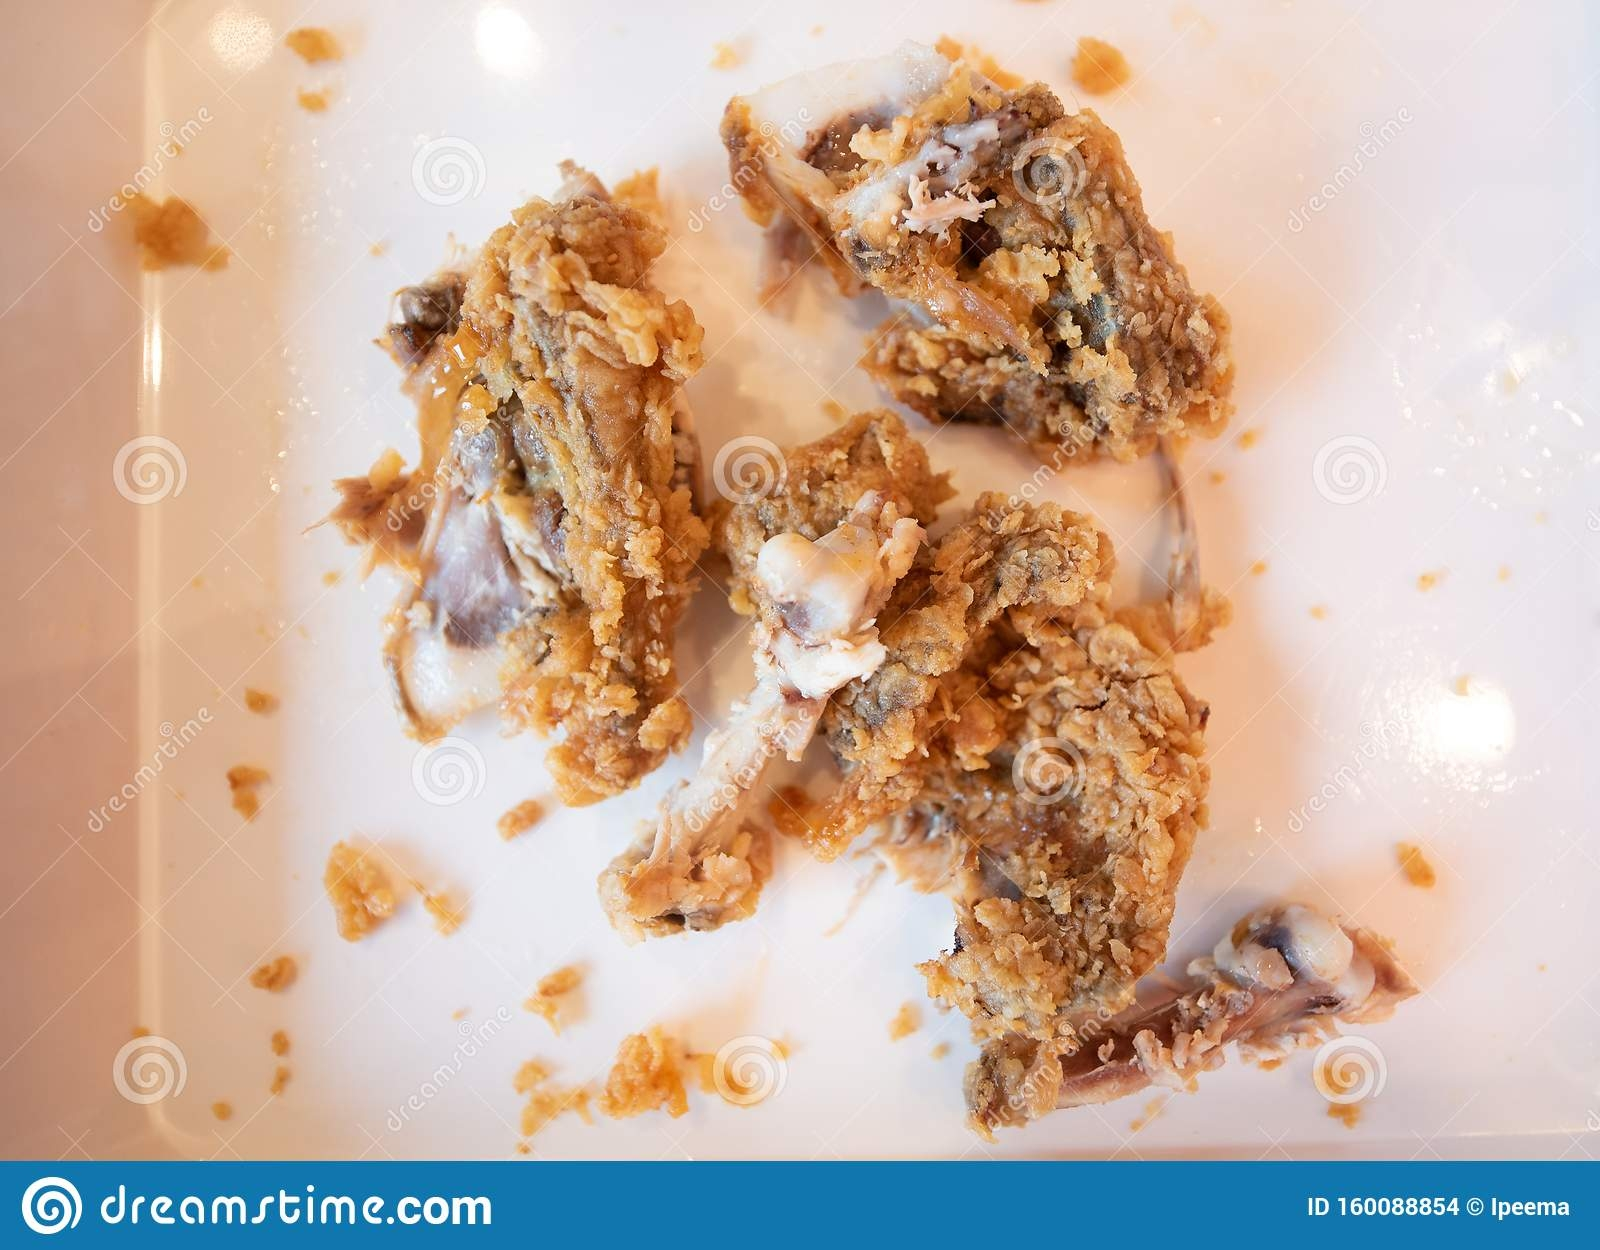kitchen_waste: (327, 134, 731, 810), (707, 26, 1299, 474), (891, 488, 1220, 1118), (594, 402, 953, 947), (953, 880, 1430, 1134)
